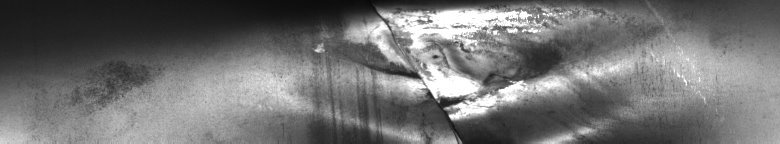ke: (314, 4, 608, 136)
